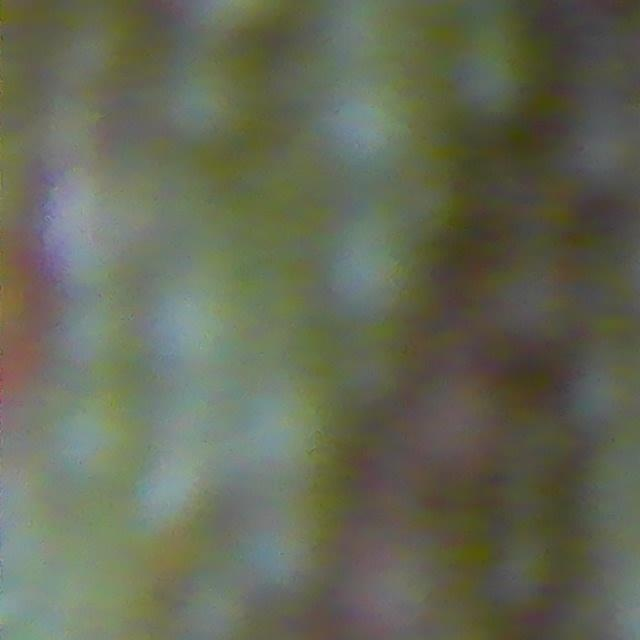SeaGrape: (320, 214, 429, 325), (450, 22, 542, 122)
